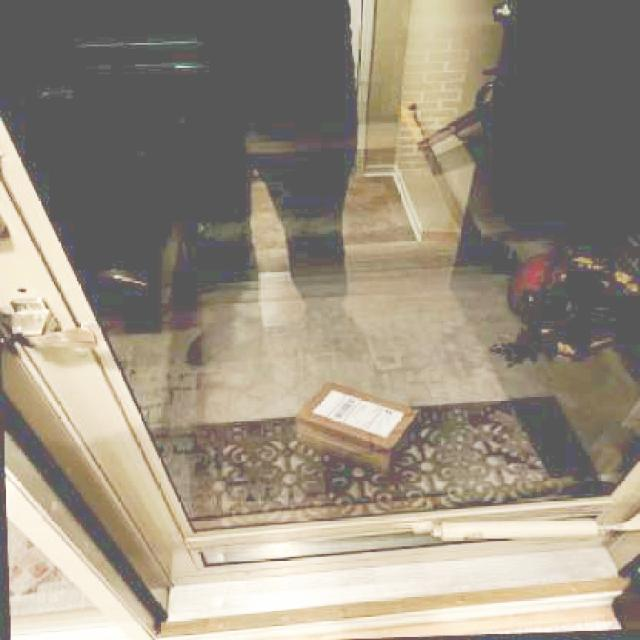Box: (295, 378, 422, 473)
